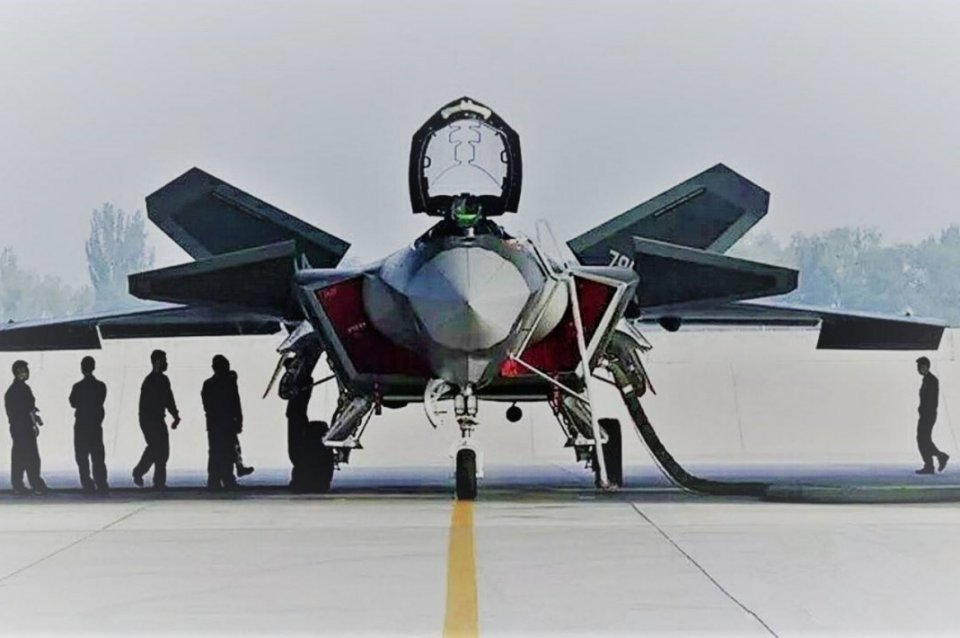J20: (1, 95, 951, 501)
